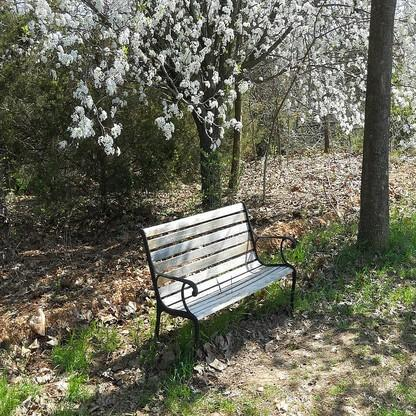obstacle: (131, 180, 305, 363)
